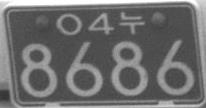0: (55, 12, 82, 36)
4: (87, 11, 114, 35)
6: (64, 40, 104, 97), (156, 39, 194, 97)
8: (110, 40, 149, 98), (19, 42, 57, 98)
누: (119, 11, 145, 35)
